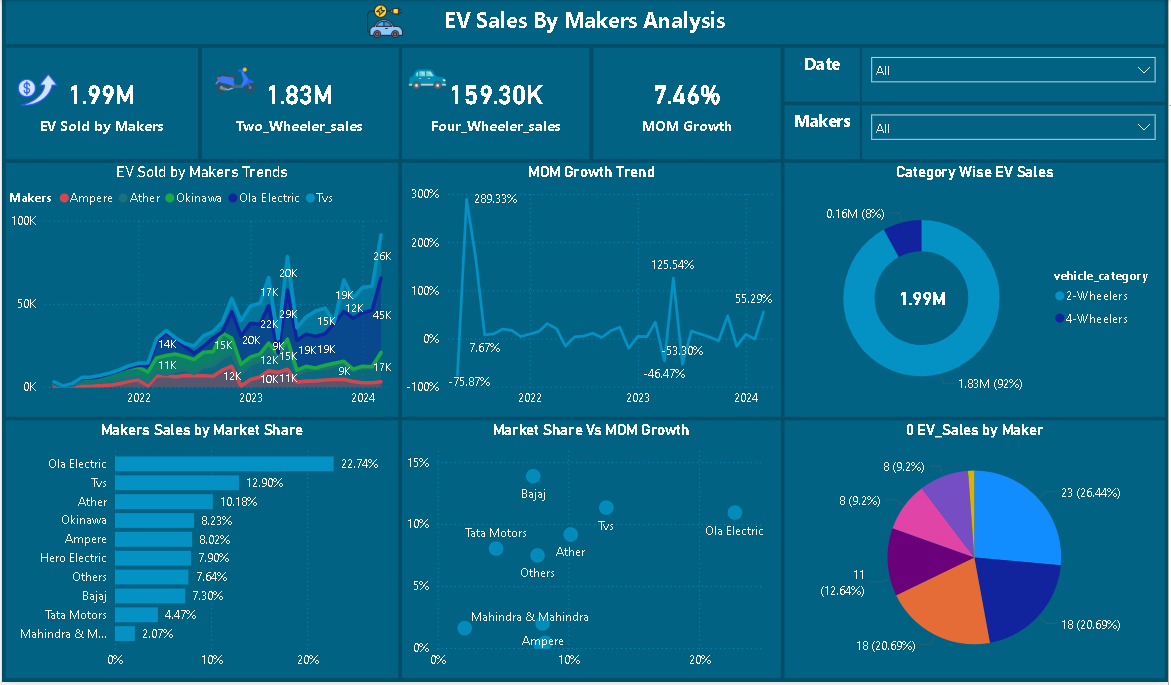

Layout of this report page (visuals, bound fields, positions):
{"tool":"powerbi","page":{"name":"Makers analysis","canvas":[1300,762],"ordinal":0},"visuals":[{"type":"slicer","fields":{"Values":["EV_Sales_By_Makers.date"]},"box":[958.8,54.4,337.3,59.9],"z":0},{"type":"donutChart","title":"Category Wise EV Sales","fields":{"Category":["EV_Sales_By_Makers.vehicle_category"],"Y":["EV_Sales_By_Makers.EV Sold by Makers"]},"box":[872.4,182.6,423.7,282.9],"z":0,"group":"g1"},{"type":"scatterChart","title":"Market Share Vs MOM Growth","fields":{"Category":["EV_Sales_By_Makers_Unclean.Corrected maker"],"X":["EV_Sales_By_Makers.Market Share"],"Y":["EV_Sales_By_Makers.MOM Growth"]},"box":[446,469.7,422.3,287.1],"z":1000},{"type":"stackedAreaChart","title":"EV Sold by Makers Trends","fields":{"Category":["EV_Sales_By_Makers.date"],"Y":["EV_Sales_By_Makers.EV Sold by Makers"],"Series":["EV_Sales_By_Makers.Corrected maker"]},"box":[4.2,182.6,437.6,282.9],"z":2000},{"type":"slicer","fields":{"Values":["EV_Sales_By_Makers_Unclean.Corrected maker"]},"box":[958.8,118.5,337.3,59.9],"z":3000},{"type":"barChart","title":"Makers Sales by Market Share","fields":{"Category":["EV_Sales_By_Makers_Unclean.Corrected maker"],"Y":["EV_Sales_By_Makers.Market Share"]},"box":[4.2,469.7,437.6,287.1],"z":4000},{"type":"card","fields":{"Values":["EV_Sales_By_Makers_Unclean.EV Sold by Makers"]},"box":[4.2,54.4,214.6,124],"z":5000,"group":"g5"},{"type":"card","fields":{"Values":["EV_Sales_By_Makers.YOY Growth"]},"box":[659.2,54.4,209,124],"z":5000},{"type":"lineChart","title":"MOM Growth Trends","fields":{"Category":["EV_Sales_By_Makers.date"],"Y":["EV_Sales_By_Makers.MOM Growth"]},"box":[446,182.6,422.3,282.9],"z":6000},{"type":"pieChart","title":"0 EV_Sales by Maker","fields":{"Y":["EV_Sales_By_Makers.Makers with 0 sales"],"Category":["EV_Sales_By_Makers.Corrected maker"]},"box":[872.4,469.7,423.7,287.1],"z":7000},{"type":"card","fields":{"Values":["EV_Sales_By_Makers.Two_Wheeler_sales"]},"box":[223,54.4,218.8,124],"z":8000,"group":"g2"},{"type":"card","fields":{"Values":["EV_Sales_By_Makers.Four_Wheeler_sales"]},"box":[446,54.4,209,124],"z":8000,"group":"g3"},{"type":"group","id":"g1","title":"Group 1","box":[872.4,182.6,423.7,282.9],"z":8000},{"type":"textbox","box":[872.4,54.4,83.6,59.9],"z":9000},{"type":"textbox","box":[4.2,1.4,1291.9,48.8],"z":10000,"group":"g4"},{"type":"textbox","box":[872.4,118.5,83.6,59.9],"z":10000},{"type":"group","id":"g2","title":"Group 2","box":[223,54.4,218.8,124],"z":11000},{"type":"group","id":"g3","title":"Group 3","box":[446,54.4,209,124],"z":12000},{"type":"card","fields":{"Values":["EV_Sales_By_Makers.EV Sold by Makers"]},"box":[986.1,308.6,79.4,53],"z":12001,"group":"g1"},{"type":"group","id":"g4","title":"Group 4","box":[4.2,0,1291.9,50.2],"z":13000},{"type":"group","id":"g5","title":"Group 5","box":[4.2,54.4,214.6,124],"z":14000},{"type":"image","box":[227.2,61.4,66.9,57.1],"z":14001,"group":"g2"},{"type":"image","box":[448.8,61.4,51.6,55.7],"z":15000,"group":"g3"},{"type":"image","box":[379.1,0,96.2,50.2],"z":15002,"group":"g4"},{"type":"image","box":[7,73.9,65.5,54.4],"z":15004,"group":"g5"}]}

Visuals, with their boxes in screenshot pixels (x1, y1, x2, y2), scaled from the page's 1300x762 canvas onto the 1171x685 screenshot:
slicer - EV_Sales_By_Makers.date: region(864, 49, 1167, 103)
"Category Wise EV Sales" donutChart: region(786, 164, 1167, 418)
"Market Share Vs MOM Growth" scatterChart: region(402, 422, 782, 680)
"EV Sold by Makers Trends" stackedAreaChart: region(4, 164, 398, 418)
slicer - EV_Sales_By_Makers_Unclean.Corrected maker: region(864, 107, 1167, 160)
"Makers Sales by Market Share" barChart: region(4, 422, 398, 680)
card - EV_Sales_By_Makers_Unclean.EV Sold by Makers: region(4, 49, 197, 160)
card - EV_Sales_By_Makers.YOY Growth: region(594, 49, 782, 160)
"MOM Growth Trends" lineChart: region(402, 164, 782, 418)
"0 EV_Sales by Maker" pieChart: region(786, 422, 1167, 680)
card - EV_Sales_By_Makers.Two_Wheeler_sales: region(201, 49, 398, 160)
card - EV_Sales_By_Makers.Four_Wheeler_sales: region(402, 49, 590, 160)
"Group 1" group: region(786, 164, 1167, 418)
textbox: region(786, 49, 861, 103)
textbox: region(4, 1, 1167, 45)
textbox: region(786, 107, 861, 160)
"Group 2" group: region(201, 49, 398, 160)
"Group 3" group: region(402, 49, 590, 160)
card - EV_Sales_By_Makers.EV Sold by Makers: region(888, 277, 960, 325)
"Group 4" group: region(4, 0, 1167, 45)
"Group 5" group: region(4, 49, 197, 160)
image: region(205, 55, 265, 107)
image: region(404, 55, 451, 105)
image: region(341, 0, 428, 45)
image: region(6, 66, 65, 115)
